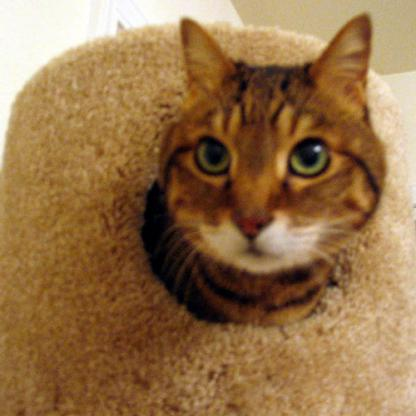cat: (164, 6, 384, 328)
